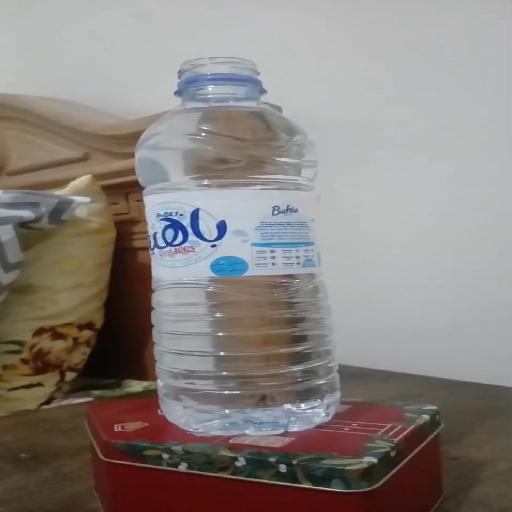bouteille non conformite: (180, 49, 301, 432)
